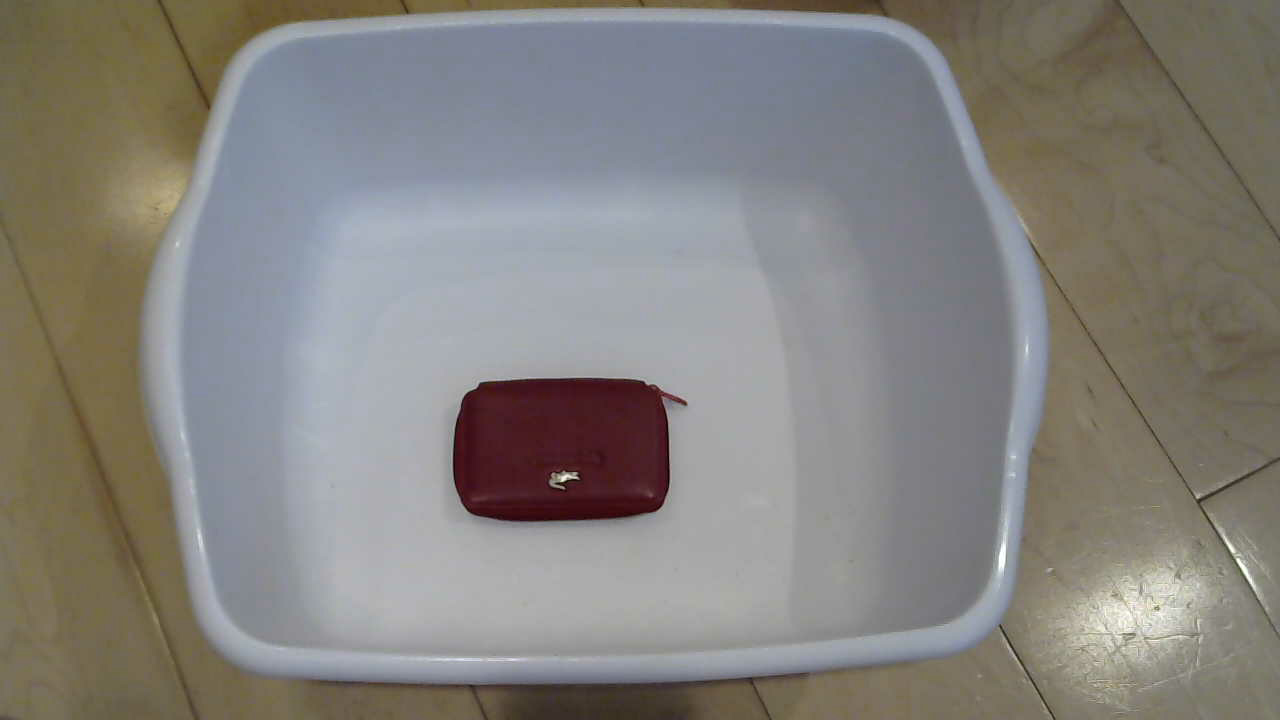wallet: (430, 367, 687, 533)
